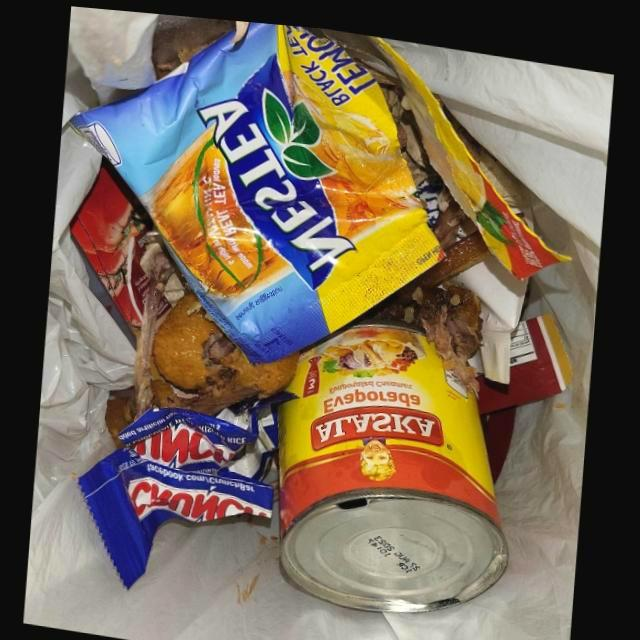aluminum: (276, 314, 509, 605)
food_wrapper: (76, 384, 296, 586), (69, 160, 153, 347)
left_over_food: (148, 286, 300, 412), (123, 238, 173, 418), (404, 276, 485, 381)
plastic_sachet: (68, 16, 443, 358), (366, 28, 572, 269)
